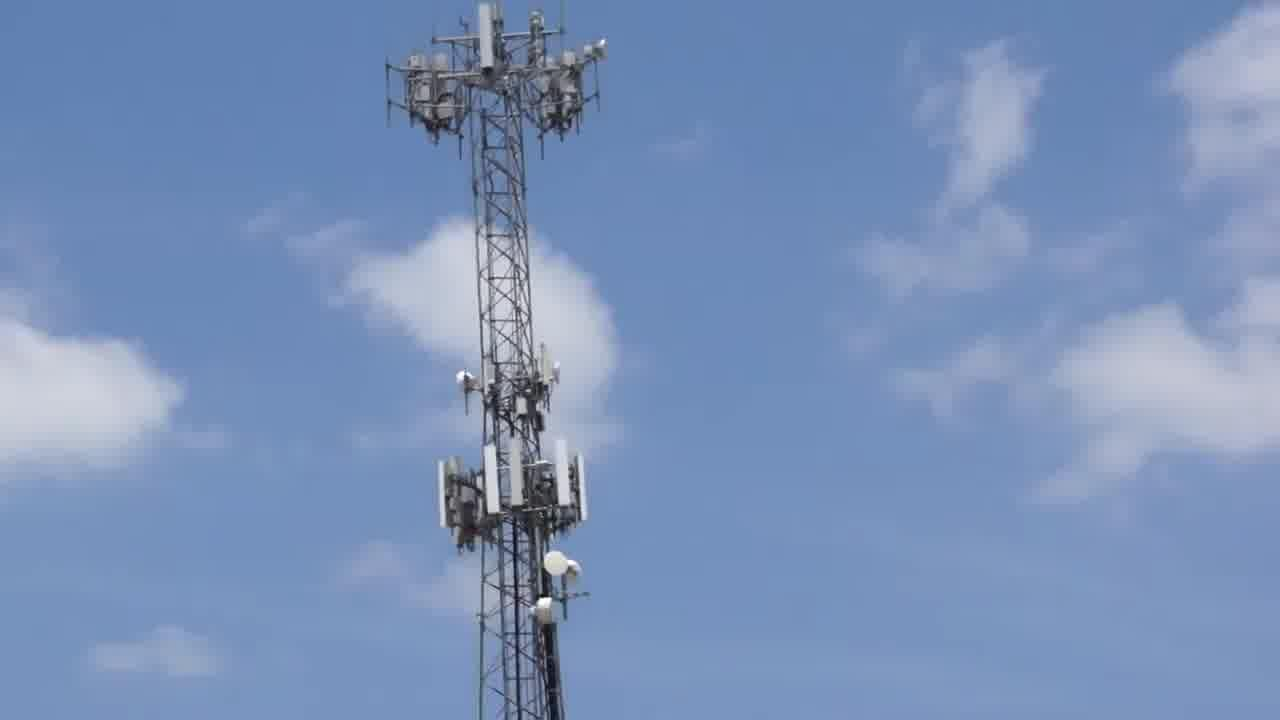Microwave Antenna: (541, 549, 572, 583), (531, 599, 562, 627), (590, 33, 613, 63), (568, 558, 595, 583), (457, 371, 478, 400), (551, 361, 569, 387)
antenna: (545, 438, 578, 518), (482, 442, 504, 526), (505, 435, 532, 503), (474, 0, 498, 72)
